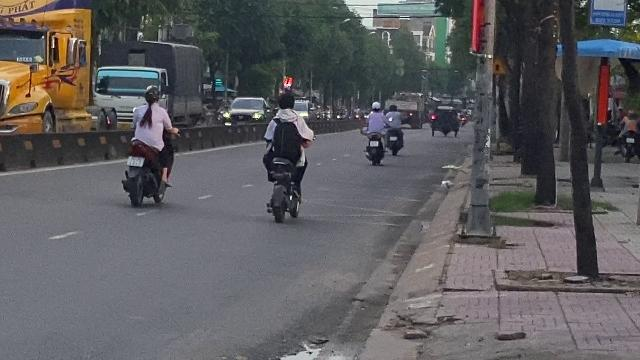helmet: (142, 85, 160, 104)
licenseplate: (126, 156, 144, 166)
motorcyclist: (262, 87, 312, 223), (122, 84, 176, 206)
